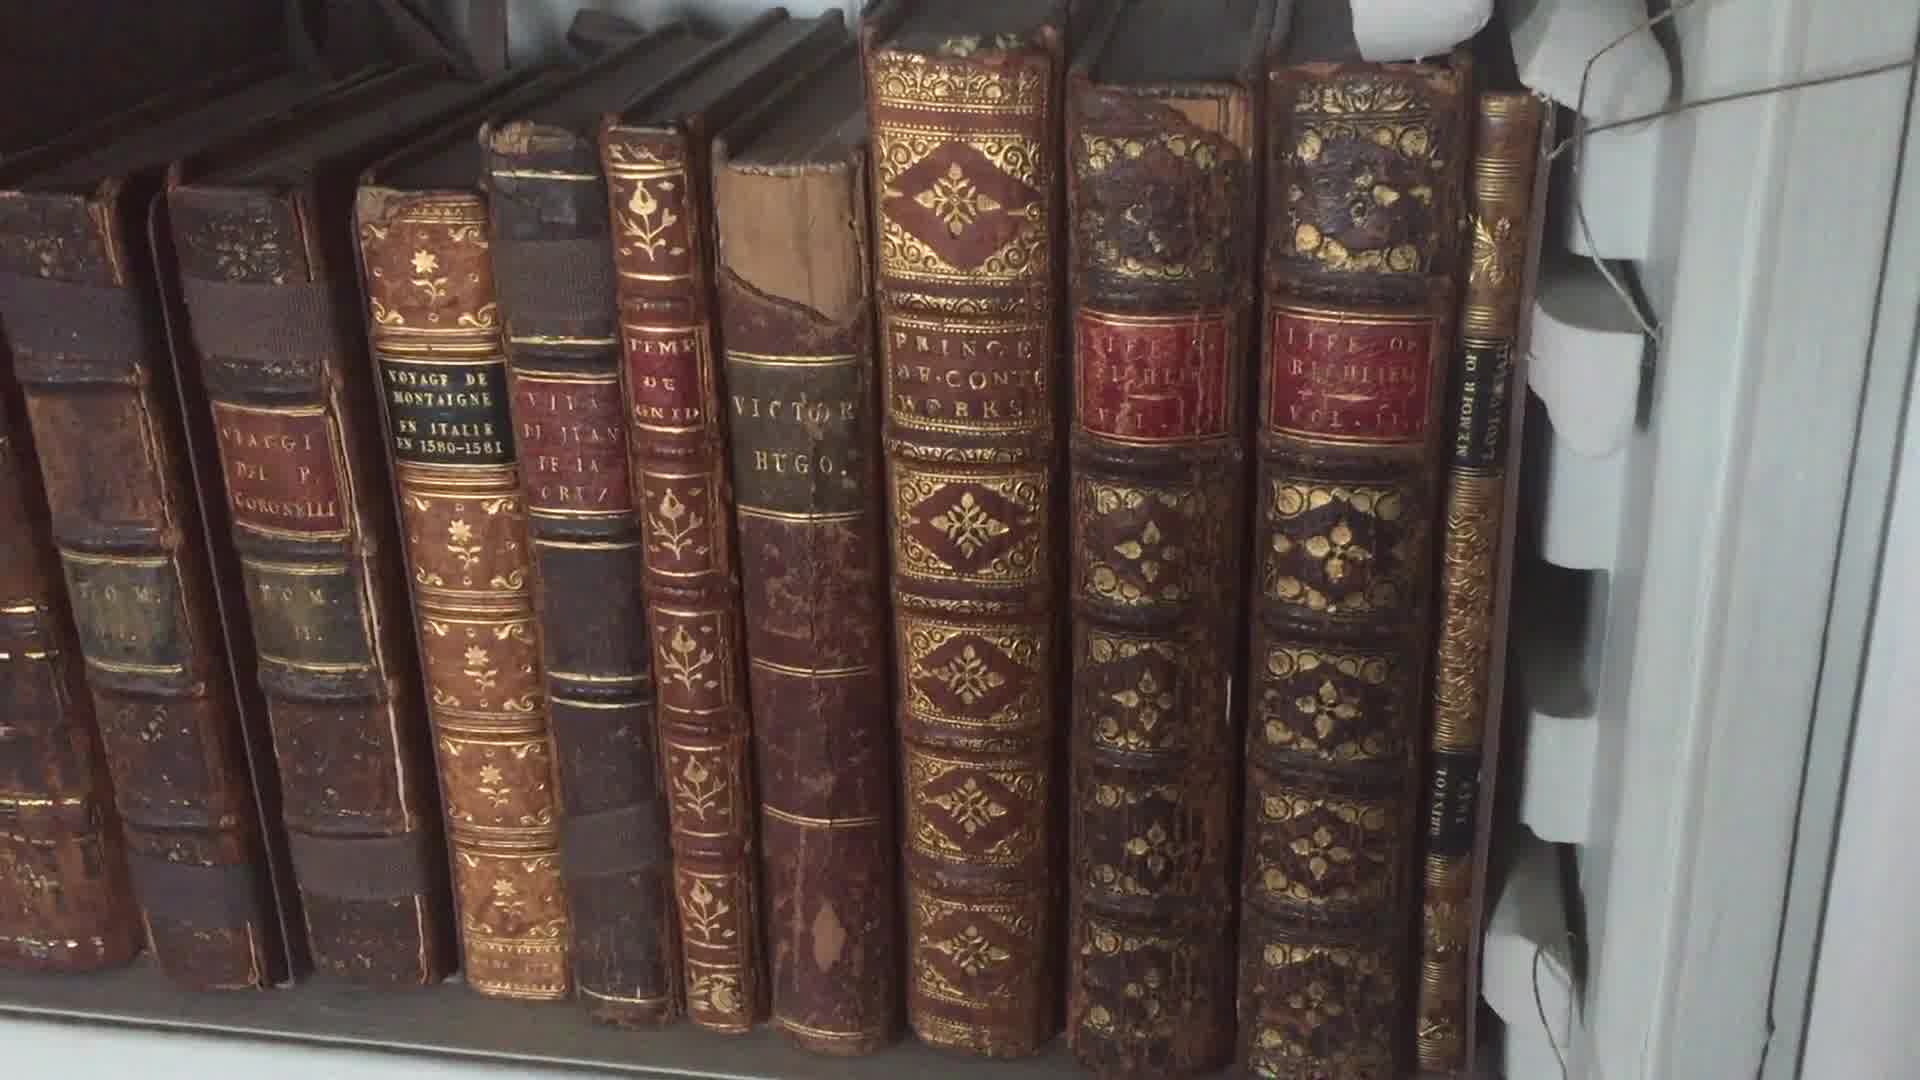Aa6-39_40: (16, 158, 440, 1017)
Aa6-41: (336, 144, 563, 1019)
Aa6-42: (468, 113, 682, 1039)
Aa6-43: (593, 117, 808, 1036)
Aa6-44: (709, 127, 902, 1068)
Aa6-45: (855, 44, 1075, 1069)
Aa6-46-47: (1072, 66, 1418, 1080)
Aa6-48: (1429, 102, 1531, 1080)
